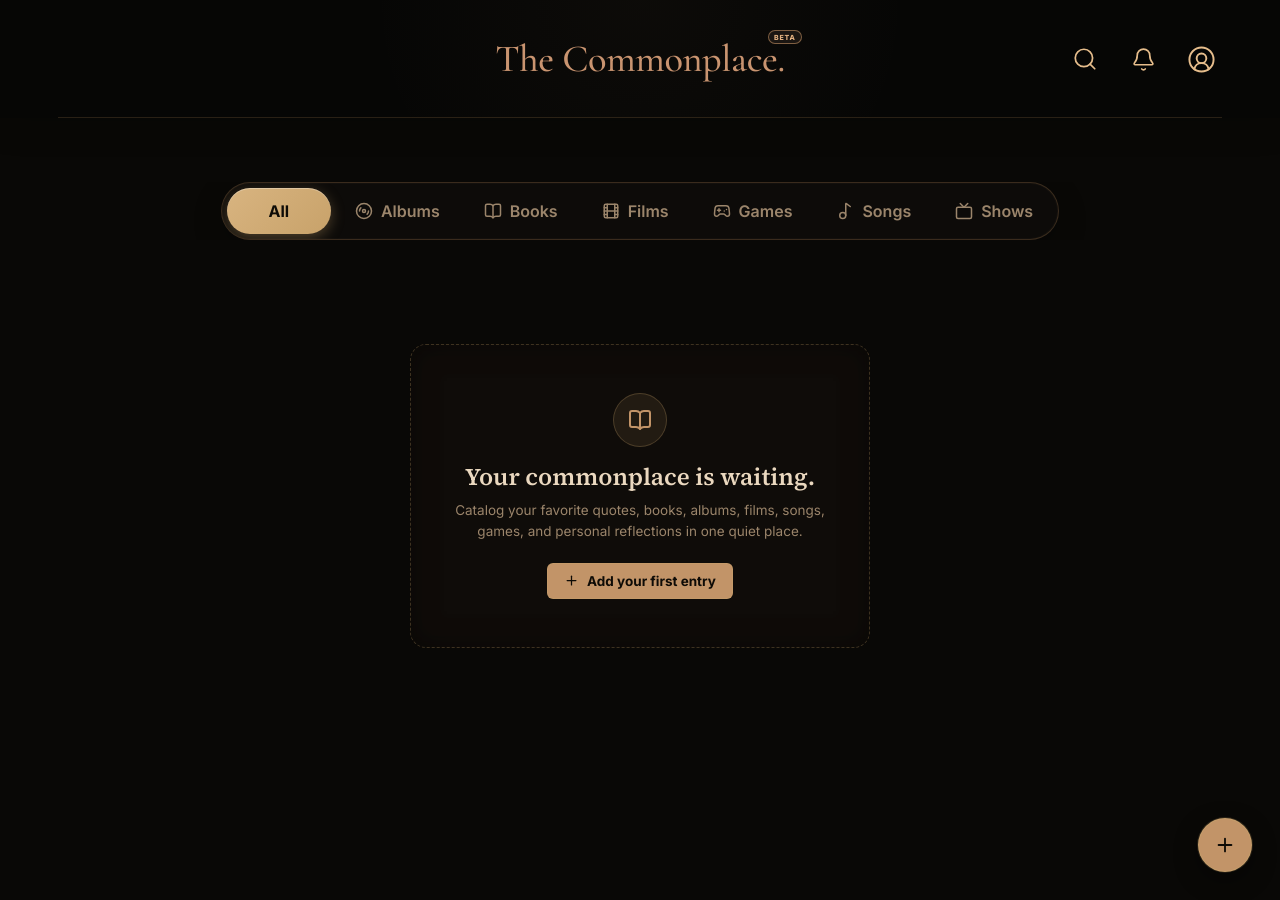
Scenario: application shell › renders the feed and opens the entry composer
The width and height of the screenshot is (1280, 900).
Expected: the text "The Commonplace." is shown, [495, 41, 785, 77]
Expected: the text "Beta" is shown, [768, 30, 802, 44]
Click the button named "Add new entry". click: (1225,845)
box: [1198, 818, 1252, 872]
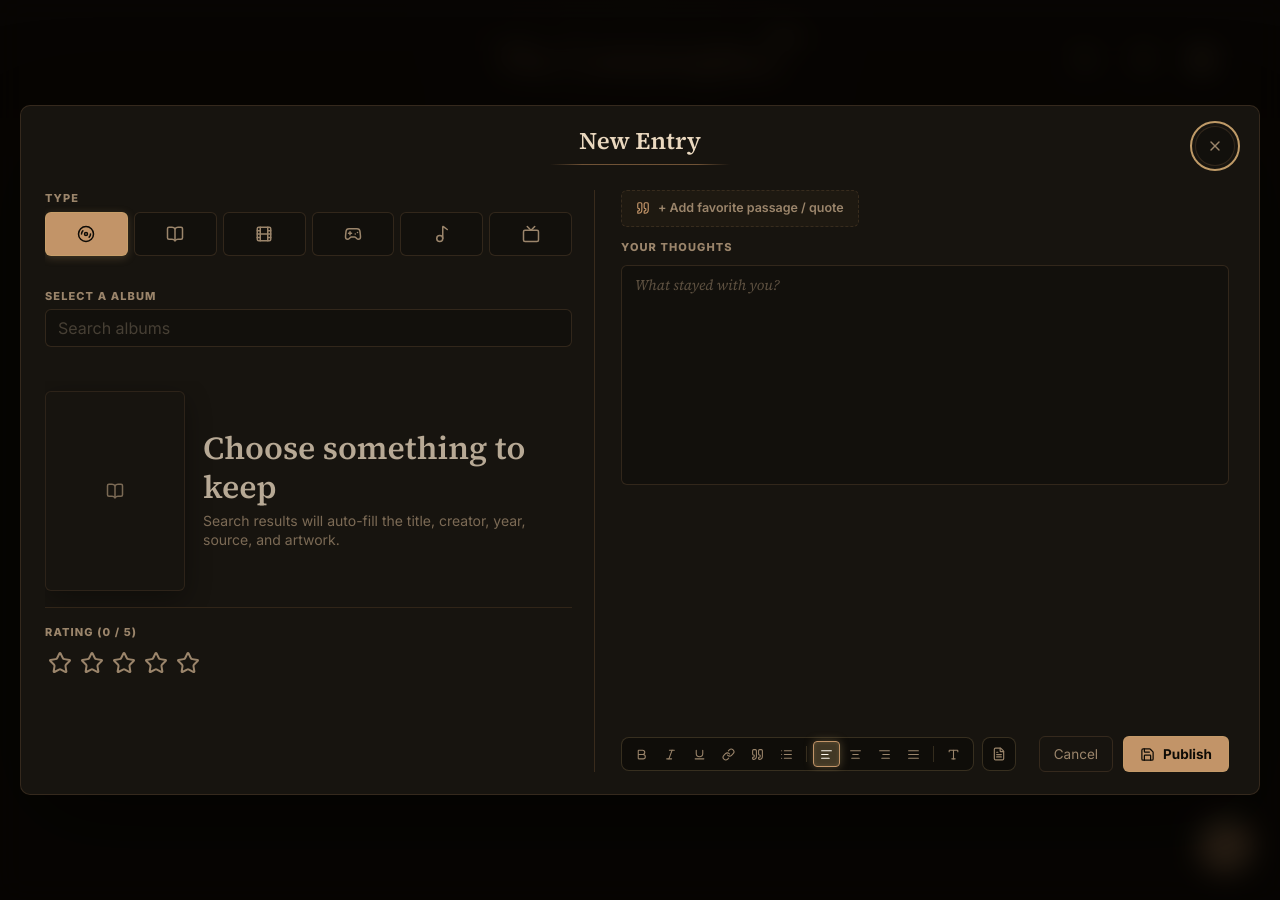
Now the text "New Entry" is shown, box [579, 124, 701, 157]
